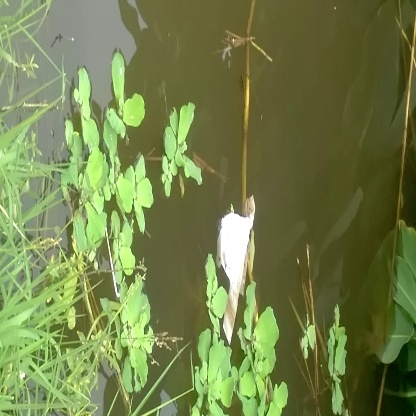plastic-bag: (203, 197, 265, 335)
